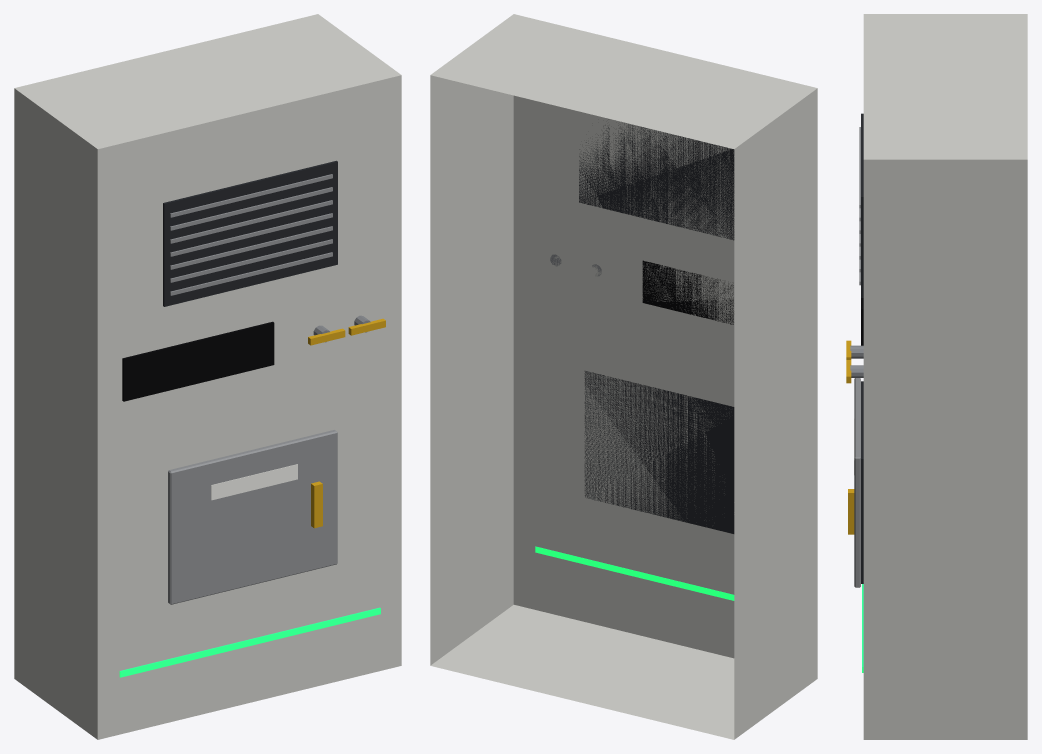
The model's file is SM_Rack_Soporte_Vital.fbx.
The picture shows the model from 3 angles, left to right: view 1: azimuth 30°, elevation 25°; view 2: azimuth 150°, elevation 25°; view 3: azimuth 270°, elevation 25°; orthographic projection.
Visible parts, largest first — view 1: SM_Rack_Soporte_Vital, SM_Puerta_Filtro; view 2: SM_Rack_Soporte_Vital; view 3: SM_Rack_Soporte_Vital, SM_Puerta_Filtro.
Boxes of the visible parts, x1=… form: SM_Rack_Soporte_Vital: x1=14, y1=14, x2=401, y2=739; SM_Puerta_Filtro: x1=168, y1=430, x2=337, y2=604; SM_Rack_Soporte_Vital: x1=430, y1=14, x2=817, y2=739; SM_Rack_Soporte_Vital: x1=846, y1=14, x2=1027, y2=739; SM_Puerta_Filtro: x1=848, y1=378, x2=860, y2=587.
Bounding box in the file's own units: 1.05 × 1.95 × 0.553.
